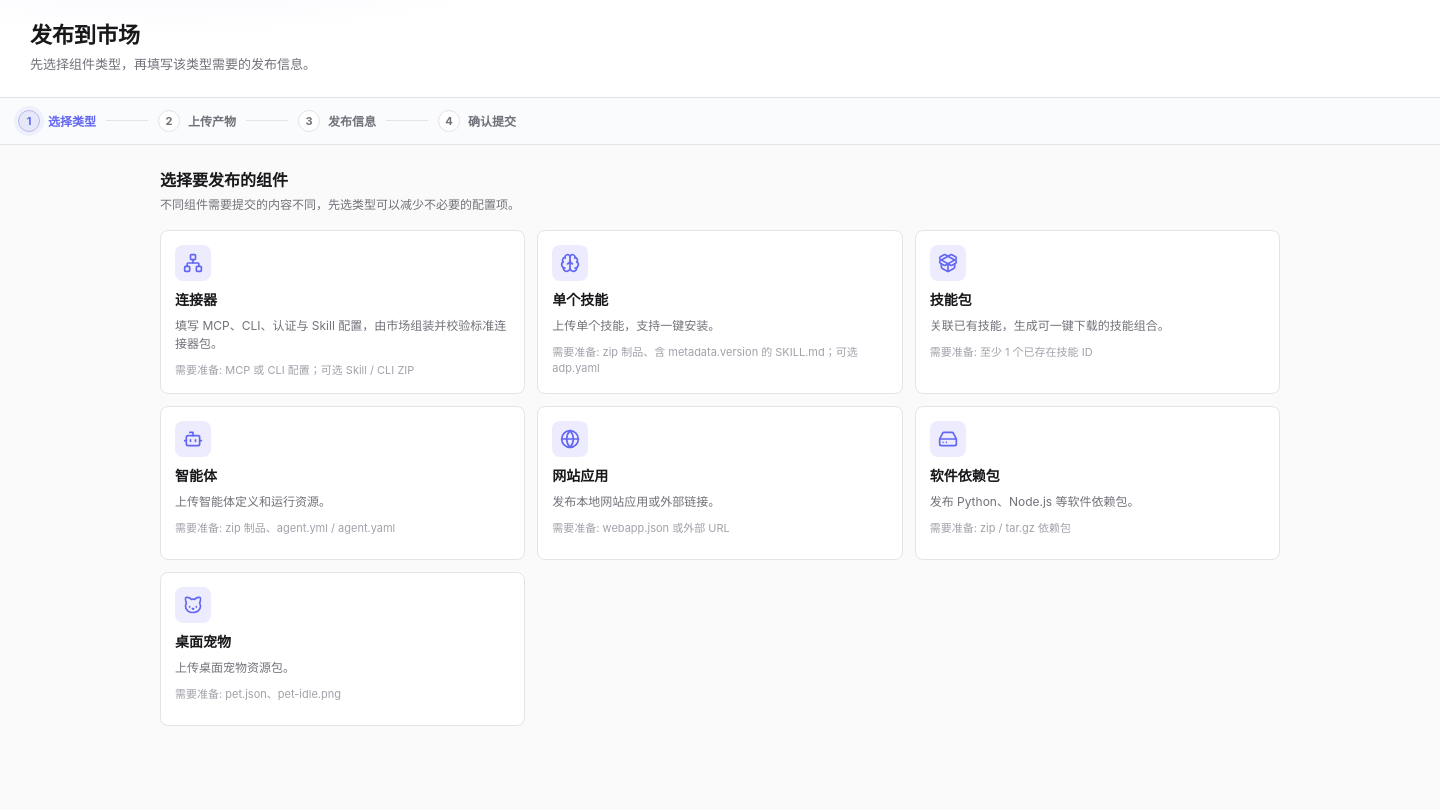
connector-only publishing › shows authentication-specific fields and locks MCP OAuth to HTTP MCP
Click the text "连接器" at [196, 300], box [175,291,217,308]
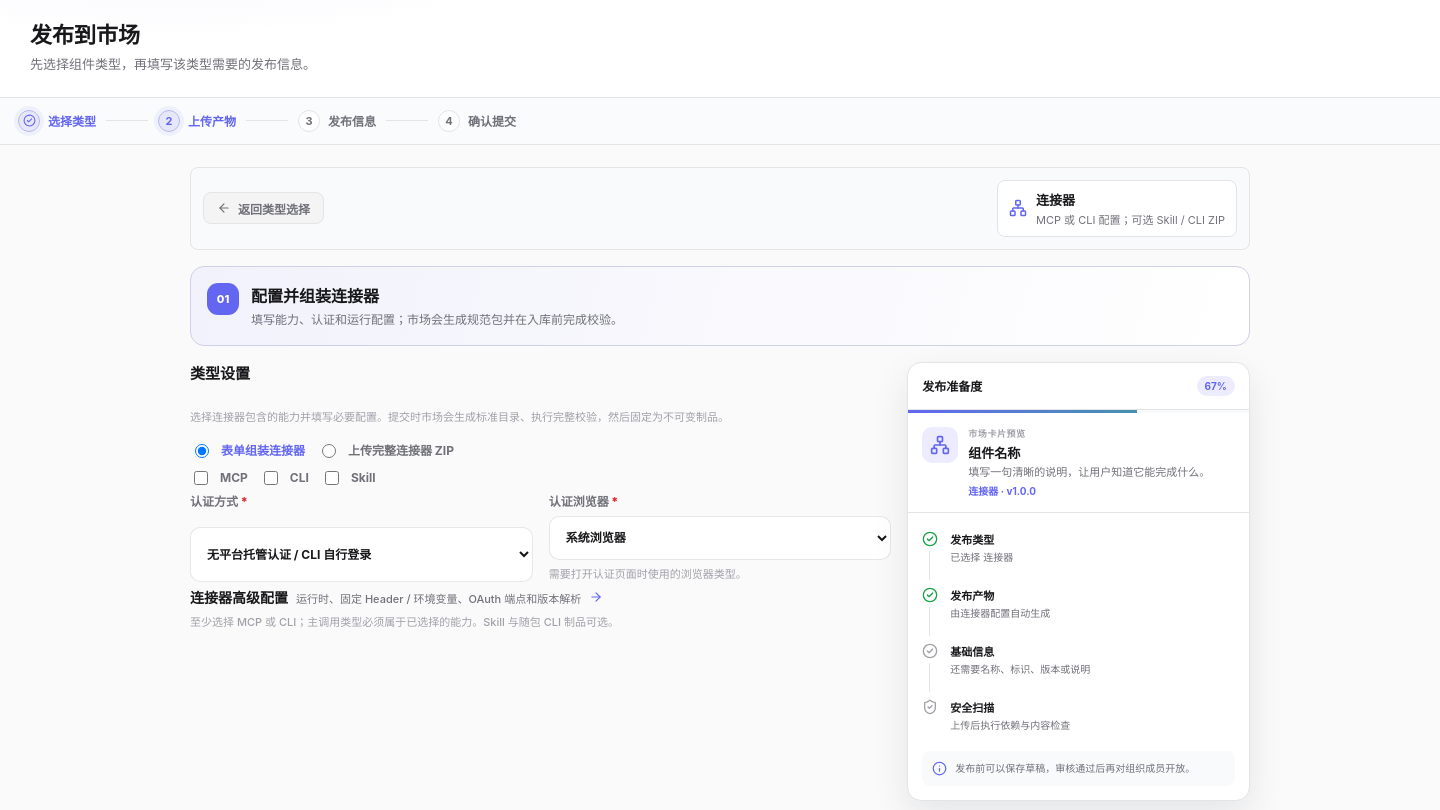
Select "OAuth 2.0" in the dropdown named "connectorAuthMode" at [361, 555], box [190,527,533,582]
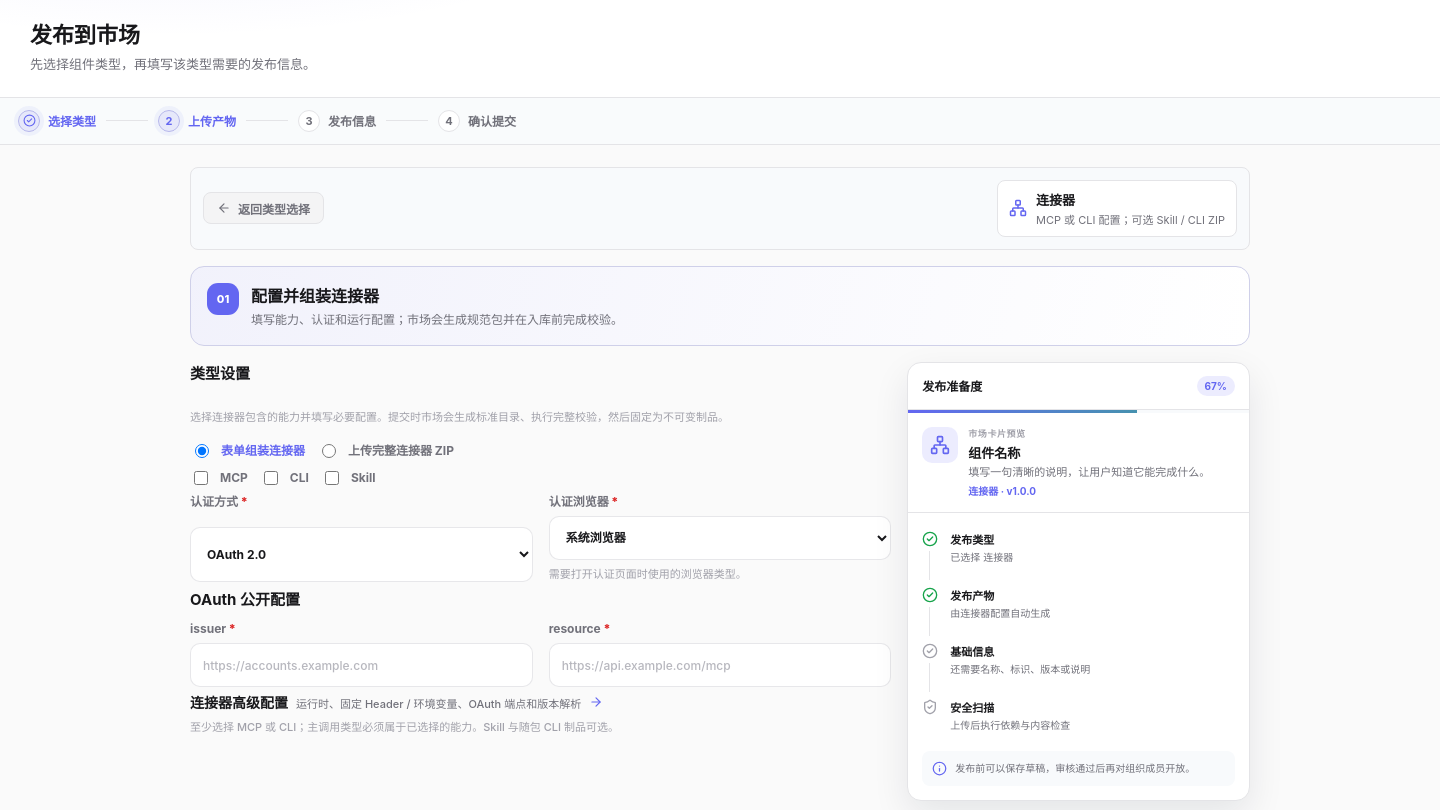
Select "MCP OAuth 2.1" in the dropdown named "connectorAuthMode" at [361, 555], box [190,527,533,582]
(page scrolled)
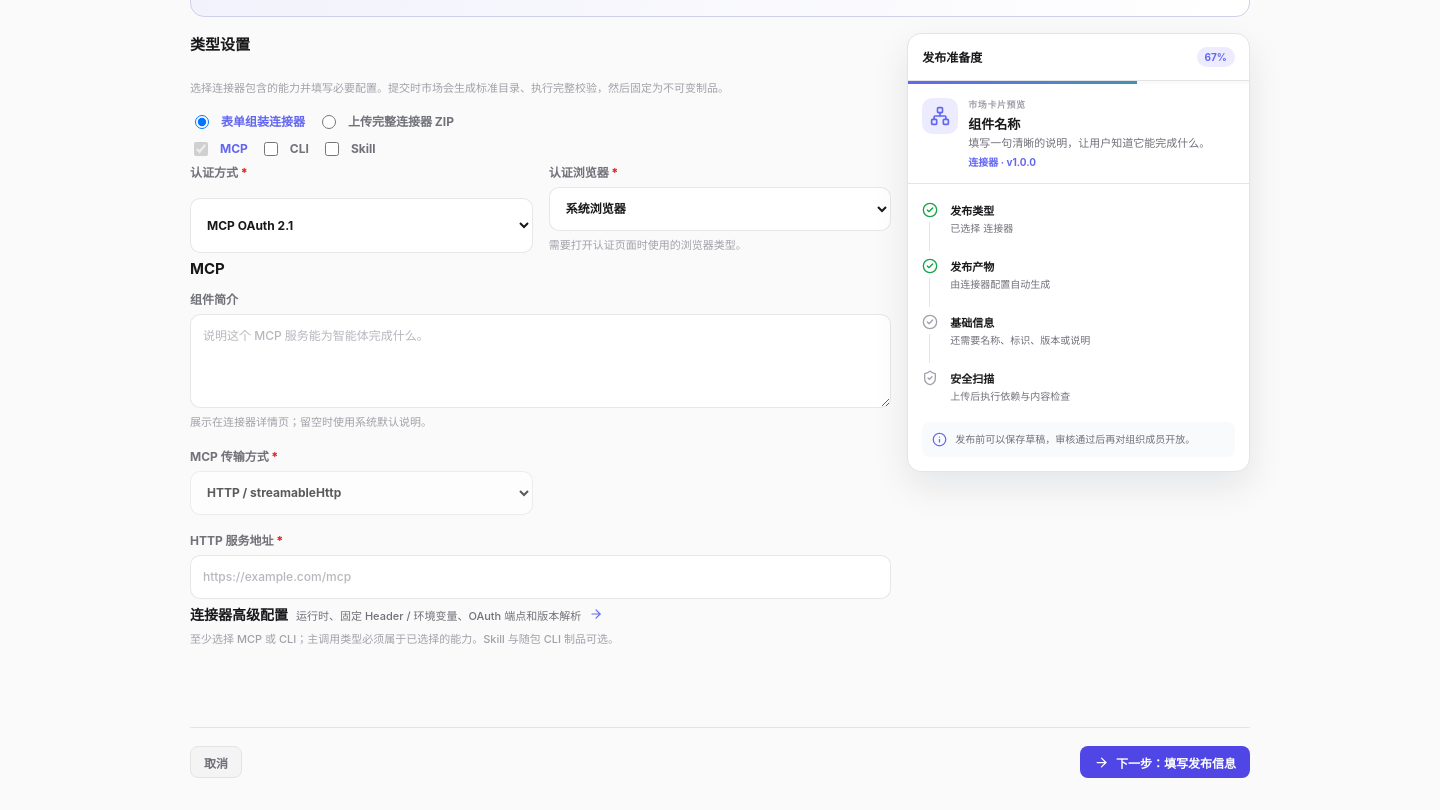
Result: the checkbox named "connectorHasMCP" is checked at [194,142,208,156]
Result: the checkbox named "connectorHasMCP" is disabled at [194,142,208,156]
Result: the dropdown named "mcpTransport" shows "HTTP / streamableHttp" at [190,471,533,515]
